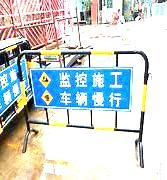sign: (31, 69, 132, 110)
